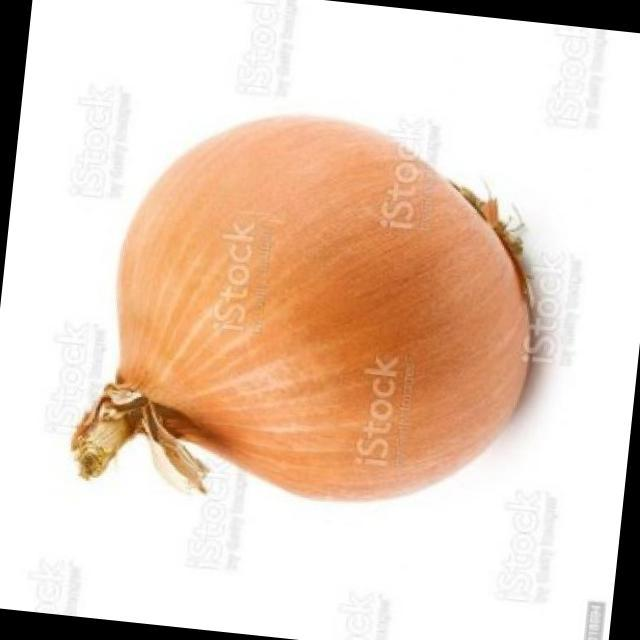Onion: (70, 107, 530, 497)
